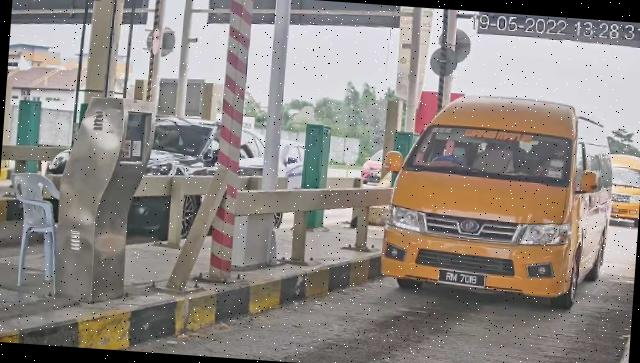License_Plate: (437, 269, 487, 292)
van: (378, 88, 618, 313)
